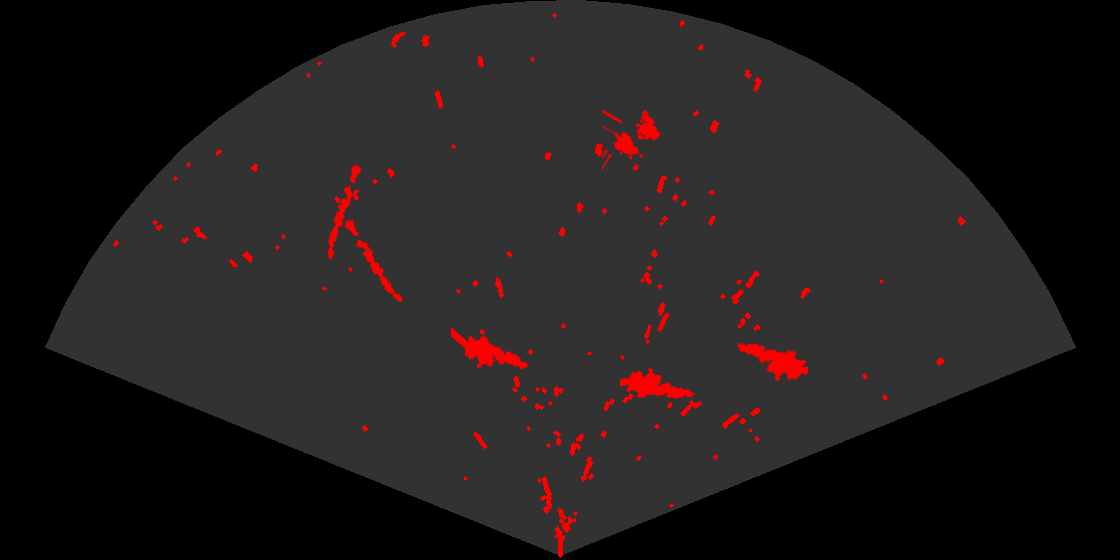cage: (602, 107, 662, 172)
chain: (343, 218, 404, 304), (326, 163, 363, 261)
frogman: (451, 325, 529, 371), (736, 342, 808, 383), (620, 366, 694, 400)
